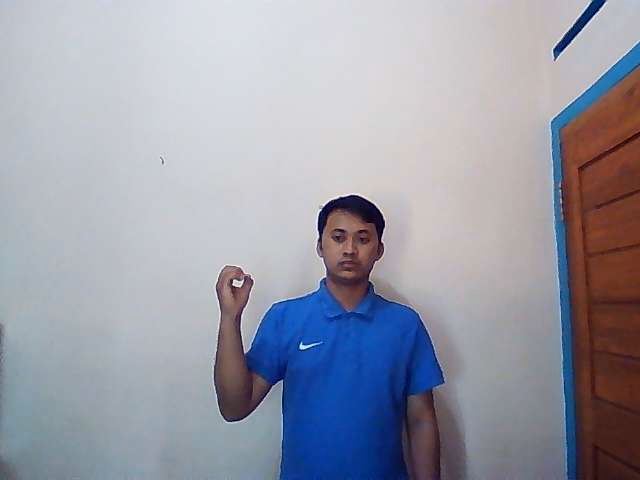O: (215, 264, 254, 316)
